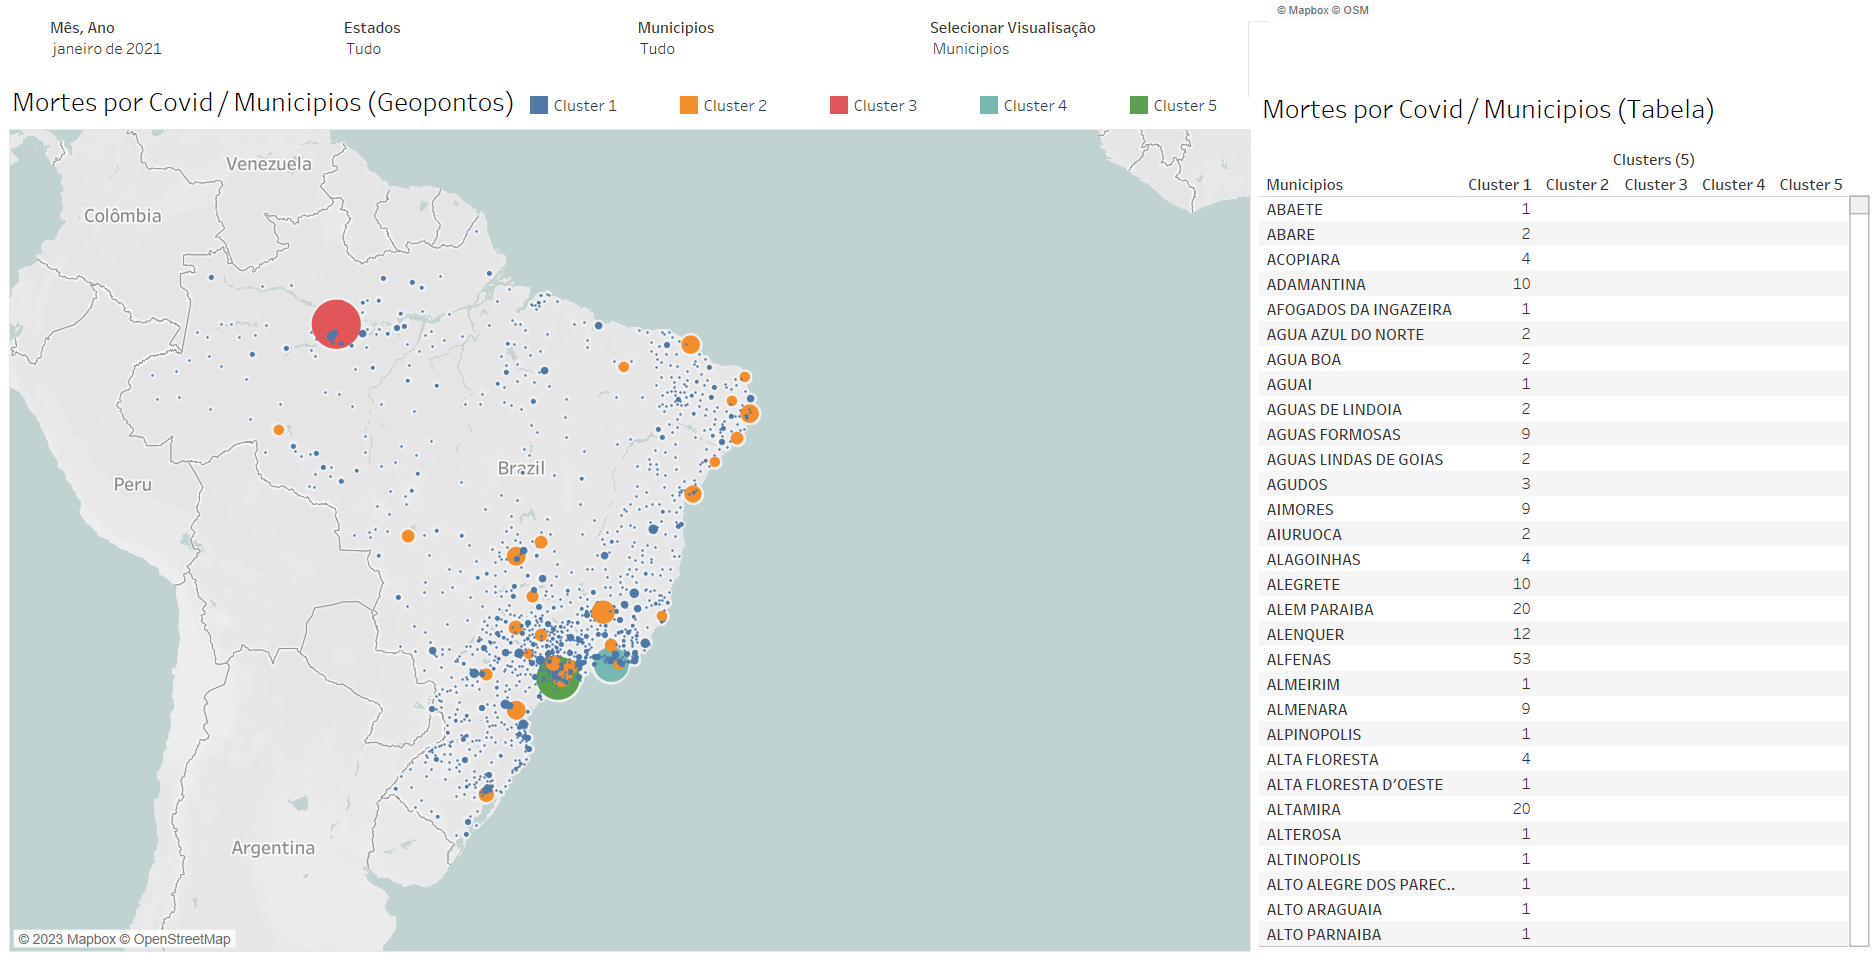

The page's visual inventory and layout, read from the dashboard file:
{"tool":"tableau","page":{"name":"GeoVisualização","canvas":[1500,768],"ordinal":0},"visuals":[{"type":"filter","title":"FILTROS","param":"[federated.0zrc1r51t0gbsm19ilb5w0i93b82].[my:DT_NOTIFIC:ok]","box":[36,8,235,52]},{"type":"filter","title":"FILTROS","param":"[federated.0zrc1r51t0gbsm19ilb5w0i93b82].[none:SG_UF_NOT:nk]","box":[271,8,235,52]},{"type":"filter","title":"FILTROS","param":"[federated.0zrc1r51t0gbsm19ilb5w0i93b82].[none:ID_MUNICIP:nk]","box":[506,8,234,52]},{"type":"parameter","param":"[Parameters].[Parâmetro 1]","box":[740,8,234,52]},{"type":"worksheet","title":"FILTROS","mark":"Circle","box":[1014,34,3,1]},{"type":"text","box":[3,63,1002,36]},{"type":"text","box":[1003,68,497,36]},{"type":"legend","title":"FILTROS","param":"[federated.0zrc1r51t0gbsm19ilb5w0i93b82].[none:AdhocCluster:9:ok]","box":[421,74,608,35]},{"type":"worksheet","title":"Mortes por Covid / Município (Geopontos)","mark":"Circle","box":[3,99,1002,1]},{"type":"worksheet","title":"Mortes por Covid / Estado (Geopontos)","mark":"Circle","box":[3,100,1002,667]},{"type":"worksheet","title":"Mortes por Covid / Estados (Tabela)","mark":"Automatic","rows":["SG_UF_NOT"],"cols":["8"],"box":[1003,104,497,589]},{"type":"worksheet","title":"Mortes por Covid / Municipios (Tabela)","mark":"Automatic","rows":["ID_MUNICIP"],"cols":["6"],"box":[1003,693,497,9]}]}

Visuals, with their boxes in screenshot pixels (x1, y1, x2, y2), scaled from the page's 1500x768 canvas onto the 1875x960 screenshot:
"FILTROS" filter: bbox=[45, 10, 339, 75]
"FILTROS" filter: bbox=[339, 10, 632, 75]
"FILTROS" filter: bbox=[632, 10, 925, 75]
parameter: bbox=[925, 10, 1218, 75]
"FILTROS" worksheet (Circle marks): bbox=[1268, 42, 1271, 44]
text: bbox=[4, 79, 1256, 124]
text: bbox=[1254, 85, 1874, 130]
"FILTROS" legend: bbox=[526, 92, 1286, 136]
"Mortes por Covid / Município (Geopontos)" worksheet (Circle marks): bbox=[4, 124, 1256, 125]
"Mortes por Covid / Estado (Geopontos)" worksheet (Circle marks): bbox=[4, 125, 1256, 959]
"Mortes por Covid / Estados (Tabela)" worksheet: bbox=[1254, 130, 1874, 866]
"Mortes por Covid / Municipios (Tabela)" worksheet: bbox=[1254, 866, 1874, 878]
